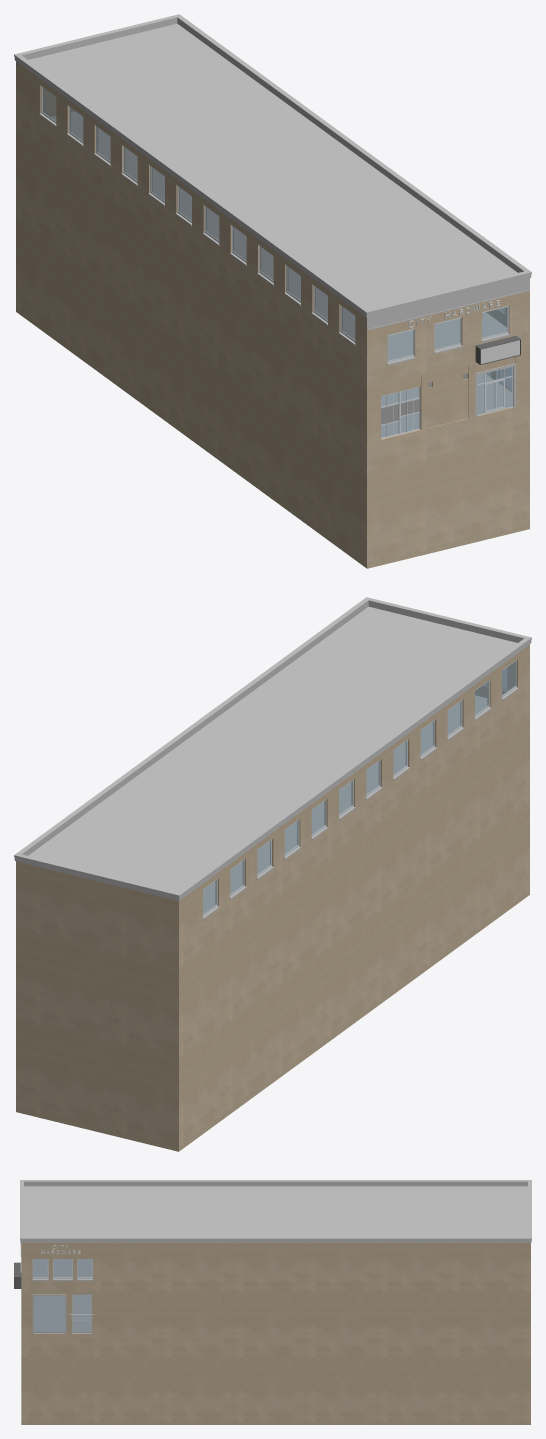
Rendered from A23_Building06.fbx.
3 views of the same model, one above another, from view 1: azimuth 30°, elevation 25°; view 2: azimuth 150°, elevation 25°; view 3: azimuth 270°, elevation 25° (orthographic). The views are drawn at different scales.
Parts seen in each view (by area): view 1: BD1943; view 2: BD1943; view 3: BD1943.
Part boxes in pixels (x1,y1,x2,y2): BD1943: (14,14,531,568); BD1943: (14,597,531,1151); BD1943: (14,1180,531,1424).
Size of the model in its own units: 9.66 by 14.35 by 36.08.
